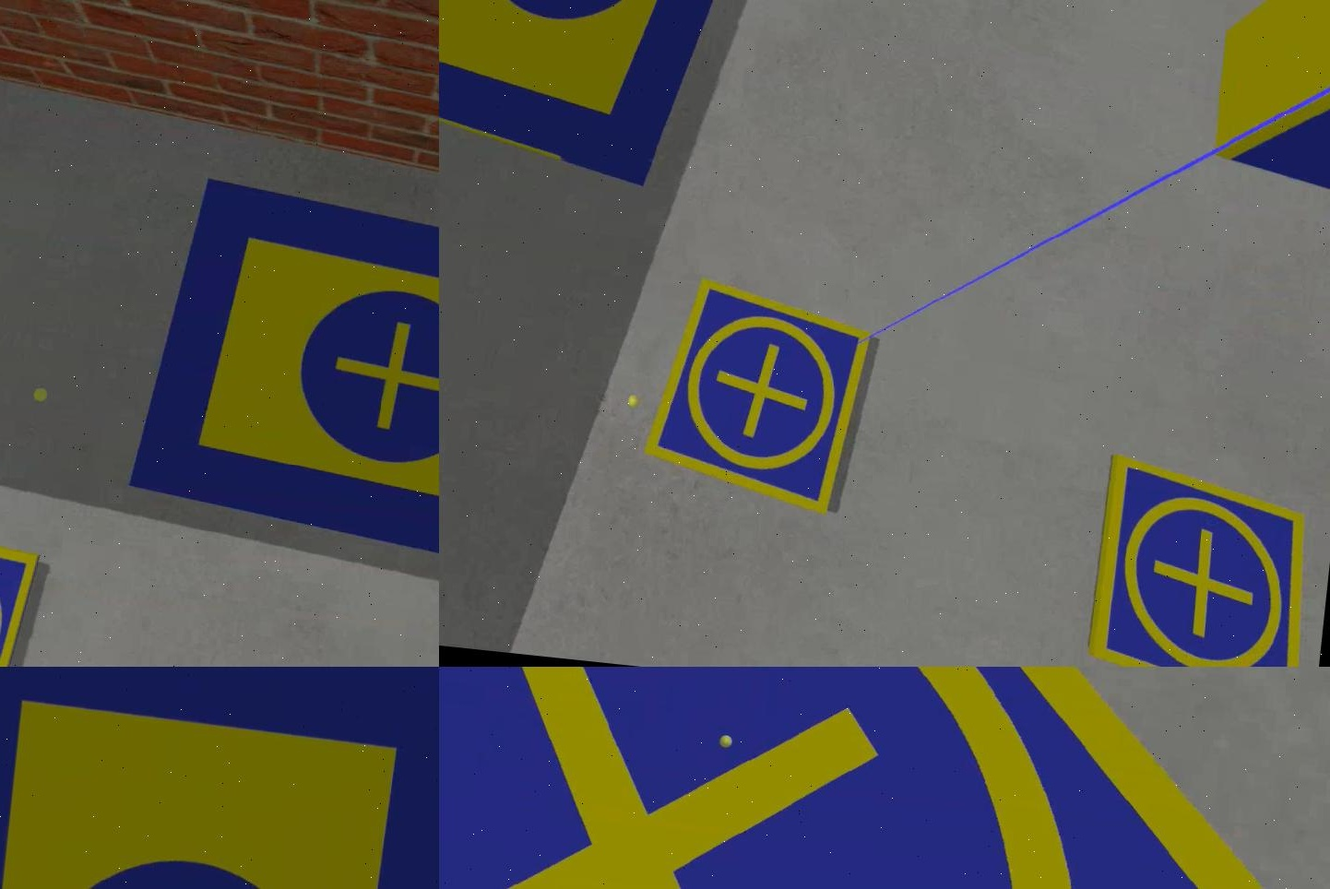large_base: (116, 171, 437, 595), (0, 668, 437, 889), (437, 1, 781, 198)
small_base: (437, 668, 1328, 889), (636, 275, 879, 521), (1080, 453, 1319, 668)
